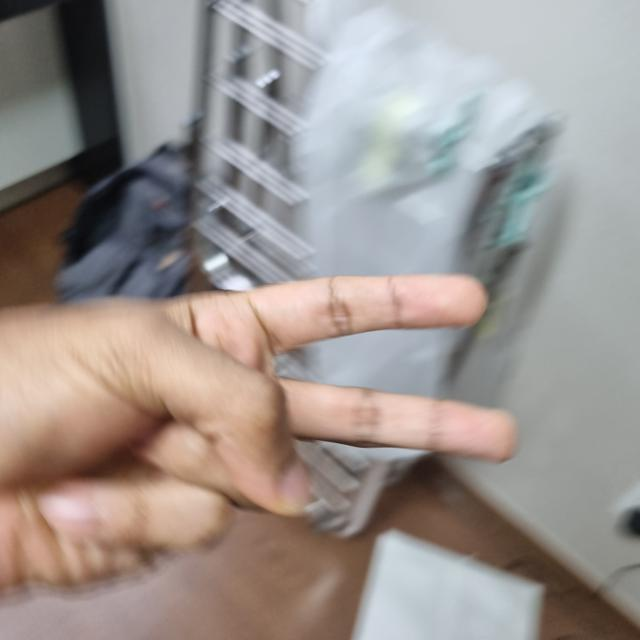Scissors: (0, 272, 516, 639)
